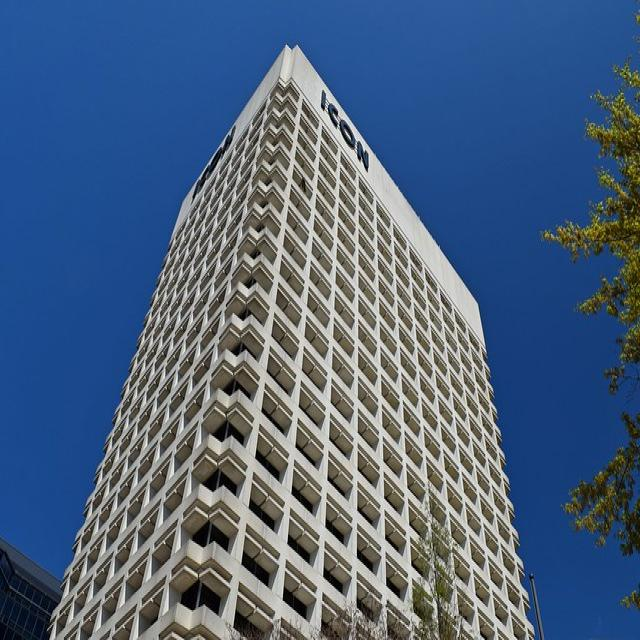building: (43, 39, 537, 634)
